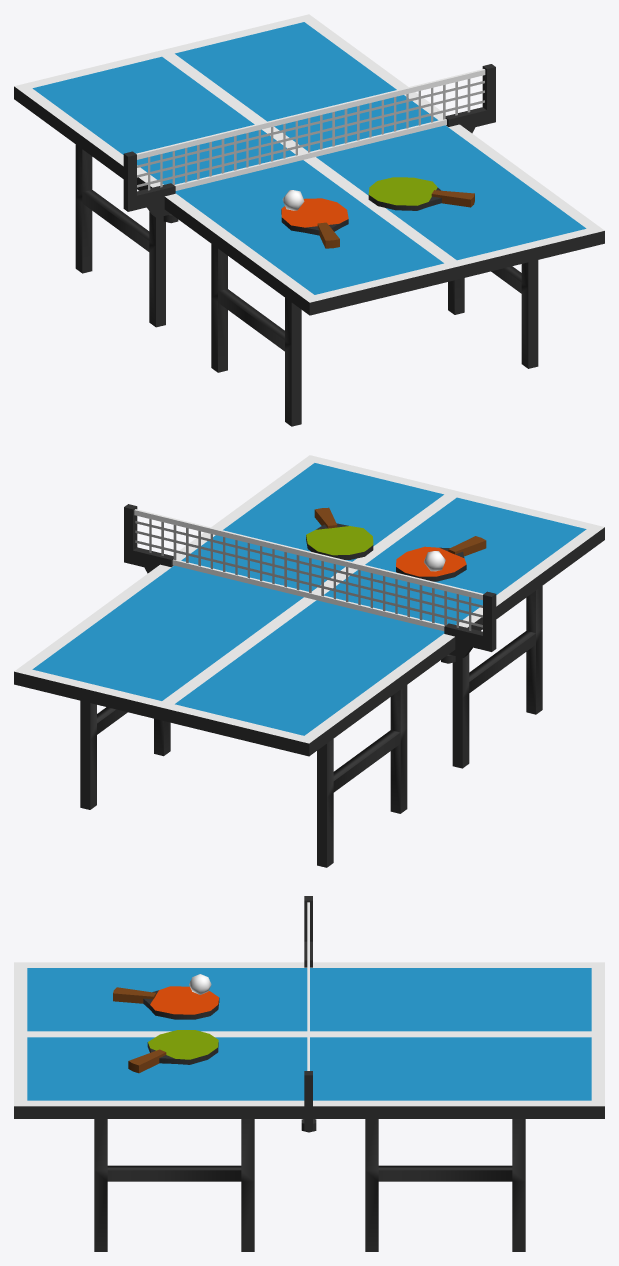
Rendered from tabletennis.glb.
3 renders of one model, top to bottom at view 1: azimuth 30°, elevation 25°; view 2: azimuth 150°, elevation 25°; view 3: azimuth 270°, elevation 25°, orthographic.
Visible parts, largest first — view 1: Box125_blue_0, Box125_white_0, Box125_black_0, Plane031_black_0, Plane033_black_0, Plane025_white_0, Plane026_gray_0, Box126_black_0, Plane030_black_0, Plane029_gray_0, Line026_green_0, Line025_red_0; view 2: Box125_blue_0, Box125_white_0, Box125_black_0, Plane033_black_0, Plane031_black_0, Plane025_white_0, Box126_black_0, Plane029_gray_0, Plane026_gray_0, Plane032_black_0, Line026_green_0, Line025_red_0; view 3: Box125_blue_0, Box125_white_0, Box125_black_0, Plane032_black_0, Plane030_black_0, Line026_green_0, Line025_red_0, Box126_black_0, Line025_brown_0, Line026_brown_0, Plane025_white_0, Line025_black_0.
Part boxes in pixels (x1=…): Box125_blue_0: x1=32, y1=22, x2=586, y2=294; Box125_white_0: x1=14, y1=14, x2=604, y2=302; Box125_black_0: x1=14, y1=86, x2=604, y2=315; Plane031_black_0: x1=211, y1=244, x2=301, y2=426; Plane033_black_0: x1=75, y1=144, x2=165, y2=327; Plane025_white_0: x1=136, y1=69, x2=485, y2=190; Plane026_gray_0: x1=137, y1=80, x2=484, y2=187; Box126_black_0: x1=123, y1=64, x2=495, y2=223; Plane030_black_0: x1=448, y1=260, x2=538, y2=368; Plane029_gray_0: x1=148, y1=79, x2=470, y2=190; Line026_green_0: x1=368, y1=177, x2=437, y2=205; Line025_red_0: x1=281, y1=198, x2=348, y2=227; Box125_blue_0: x1=32, y1=463, x2=586, y2=735; Box125_white_0: x1=14, y1=455, x2=604, y2=743; Box125_black_0: x1=14, y1=527, x2=604, y2=756; Plane033_black_0: x1=317, y1=685, x2=407, y2=867; Plane031_black_0: x1=452, y1=586, x2=542, y2=768; Plane025_white_0: x1=134, y1=509, x2=483, y2=631; Box126_black_0: x1=124, y1=504, x2=496, y2=663; Plane029_gray_0: x1=149, y1=519, x2=471, y2=630; Plane026_gray_0: x1=135, y1=521, x2=482, y2=627; Plane032_black_0: x1=80, y1=700, x2=170, y2=809; Line026_green_0: x1=306, y1=526, x2=373, y2=555; Line025_red_0: x1=396, y1=546, x2=466, y2=576; Box125_blue_0: x1=27, y1=968, x2=591, y2=1100; Box125_white_0: x1=14, y1=962, x2=604, y2=1106; Box125_black_0: x1=14, y1=1106, x2=604, y2=1118; Plane032_black_0: x1=365, y1=1119, x2=525, y2=1251; Plane030_black_0: x1=94, y1=1119, x2=254, y2=1251; Line026_green_0: x1=148, y1=1030, x2=218, y2=1059; Line025_red_0: x1=150, y1=986, x2=218, y2=1014; Box126_black_0: x1=301, y1=896, x2=316, y2=1132; Line025_brown_0: x1=113, y1=987, x2=155, y2=1003; Line026_brown_0: x1=128, y1=1049, x2=166, y2=1073; Plane025_white_0: x1=307, y1=902, x2=309, y2=1070; Line025_black_0: x1=143, y1=990, x2=219, y2=1019.
Bounding box in the file's own units: 150 × 80.51 × 208.
